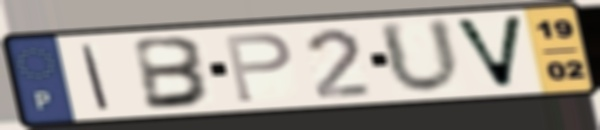2: (301, 26, 376, 101)
B: (131, 34, 216, 113)
I: (78, 42, 113, 111)
P: (220, 31, 295, 105)
U: (373, 16, 466, 98)
V: (449, 14, 528, 91)
